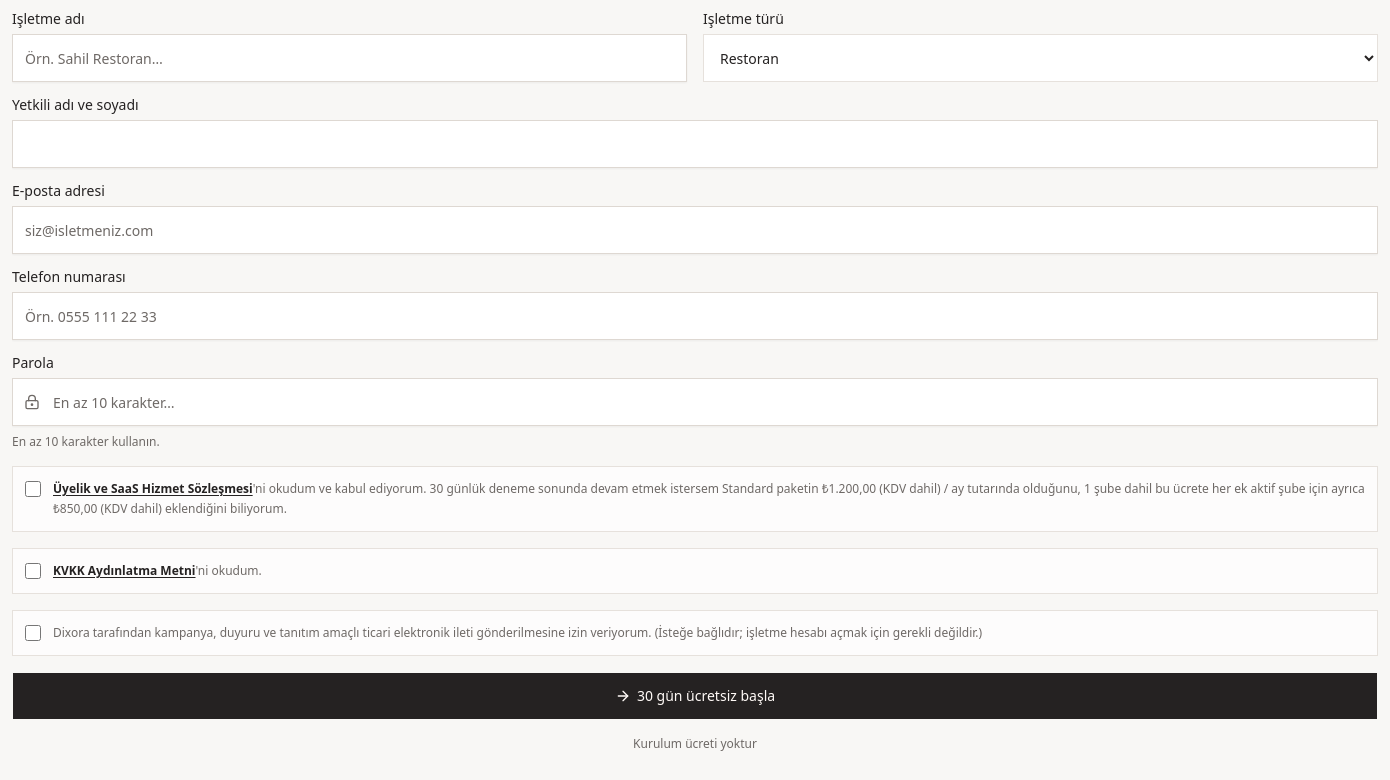
Test: TrialRegistrationForm › labels every control and focuses the first invalid field
The image size is (1390, 780).
Expected: the field labelled "İşletme adı" is shown, [12,34,687,82]
Expected: the dropdown labelled "İşletme türü" is shown, [703,34,1378,82]
Click the button "30 gün ücretsiz başla" at (695, 696), box [12,672,1378,720]
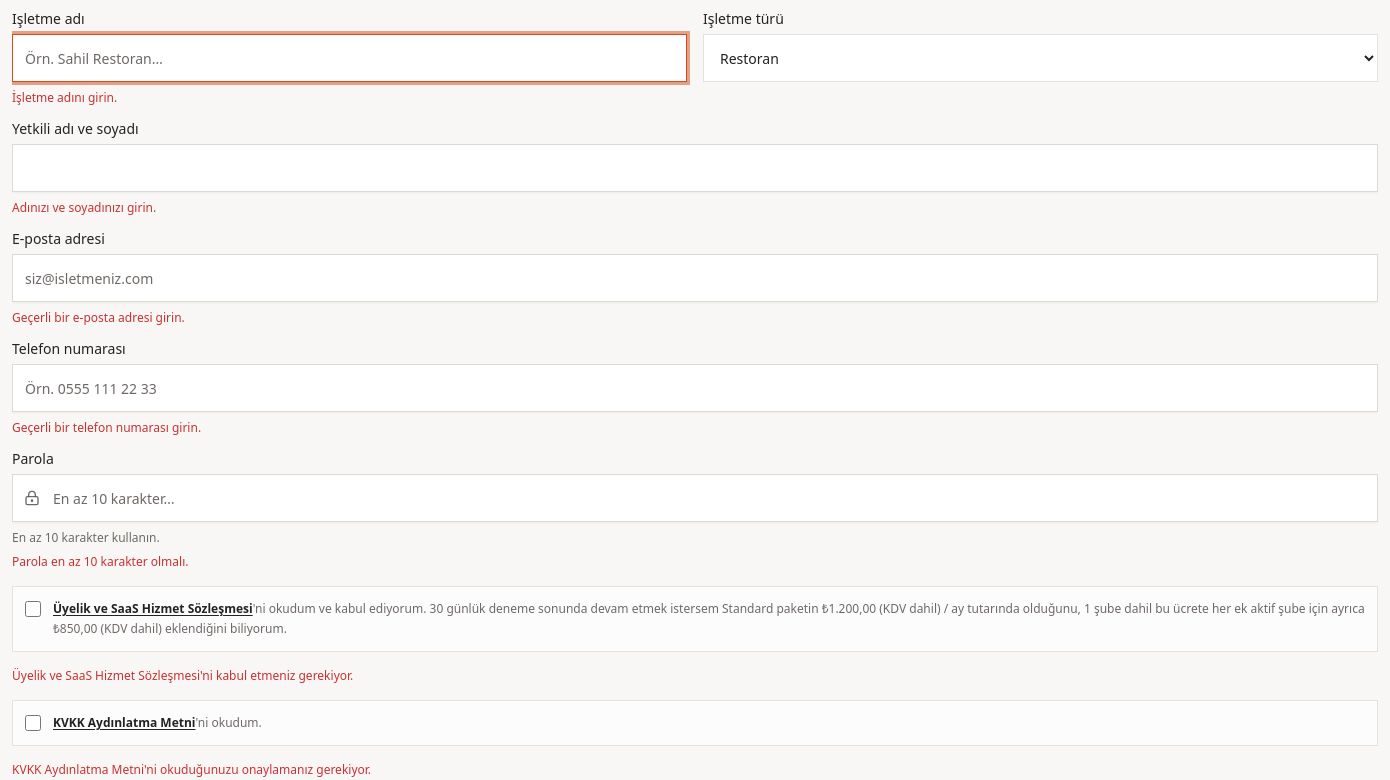
Expected: the text "İşletme adını girin." is shown, [12,89,117,106]
